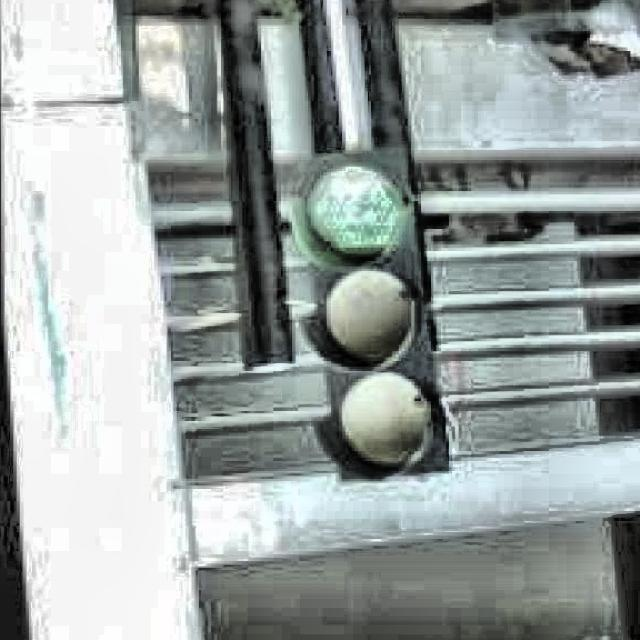green: (295, 139, 463, 485)
